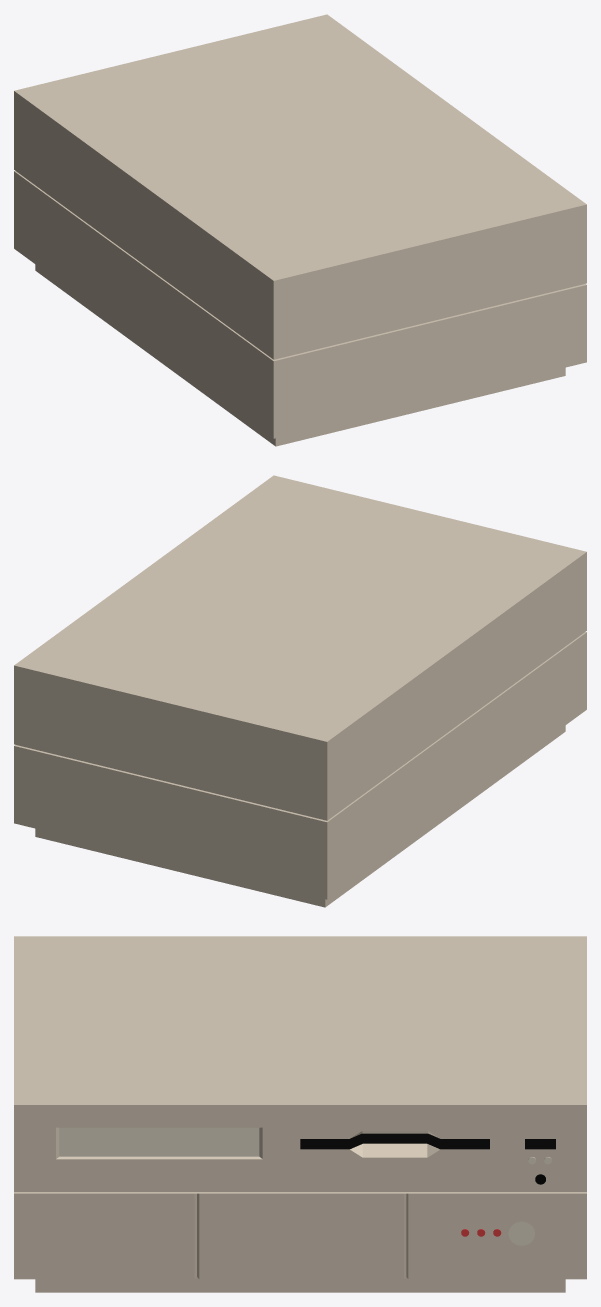
The model's file is old-school-PC.glb.
3 renders of one model, top to bottom at view 1: azimuth 30°, elevation 25°; view 2: azimuth 150°, elevation 25°; view 3: azimuth 270°, elevation 25°, orthographic. The views are drawn at different scales.
Parts seen in each view (by area): view 1: Computer; view 2: Computer; view 3: Computer, Cutter.
Part boxes in pixels (<box>): Computer: <box>14,14,586,446</box>; Computer: <box>14,475,586,907</box>; Computer: <box>14,936,586,1292</box>; Cutter: <box>508,1221,535,1245</box>.
Bounding box in the file's own units: 2.01 × 1.07 × 2.87.
